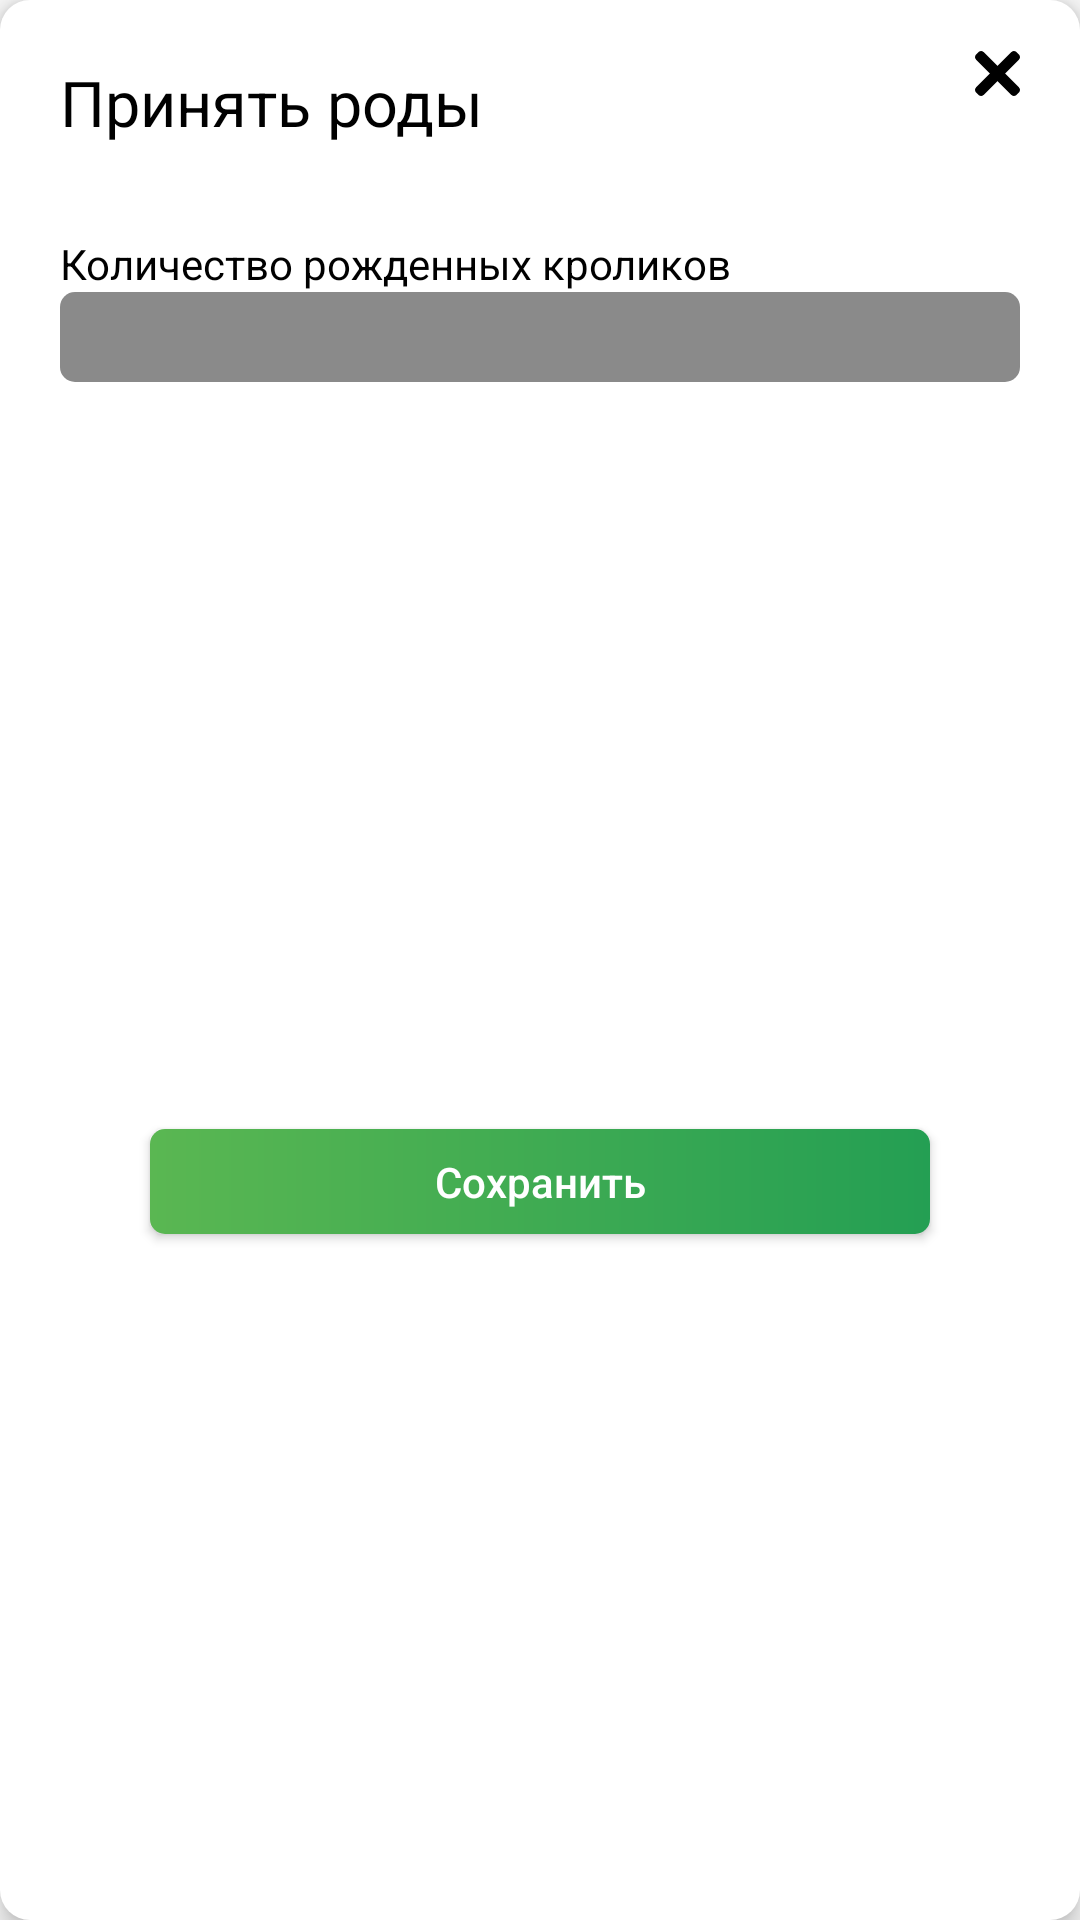

Icon click points for this 1080*1920 phone screenshot, format (x=x, y=y):
close menu: (x=997, y=73)
